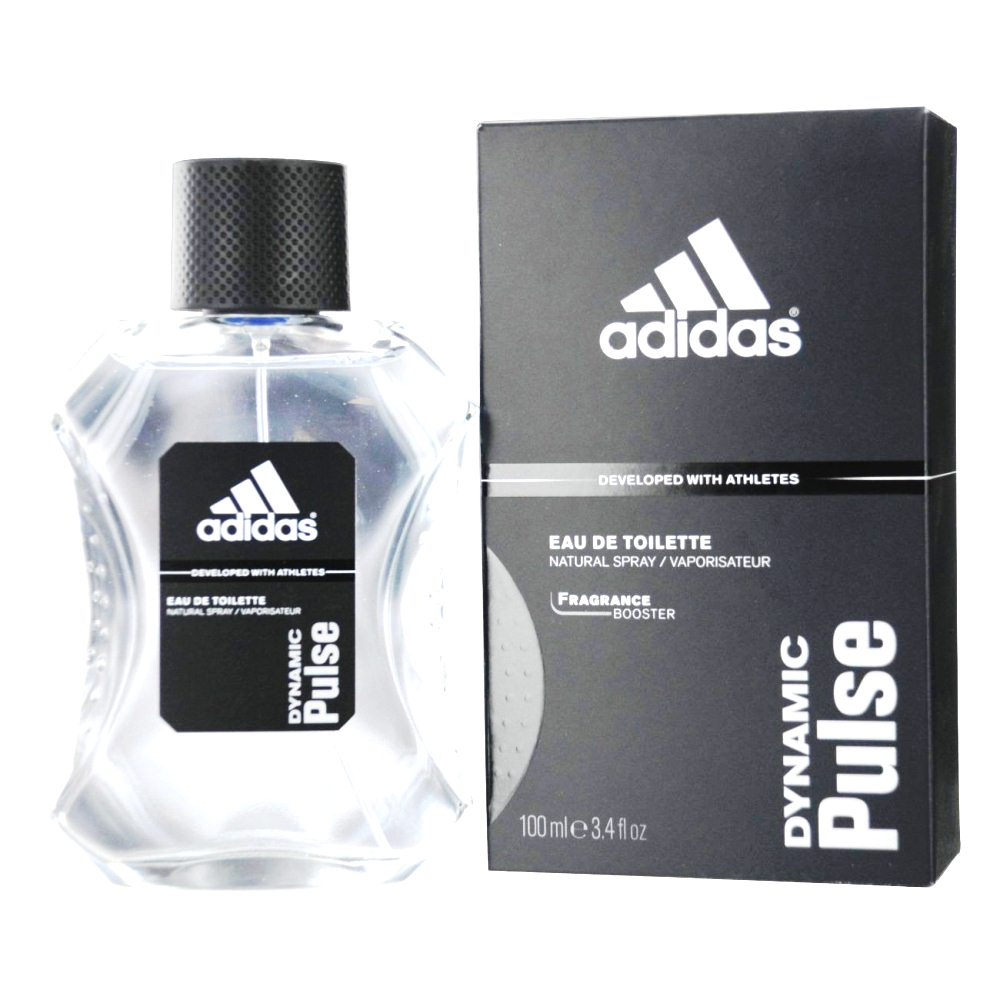Adidas: (586, 209, 807, 369), (188, 458, 329, 547)
